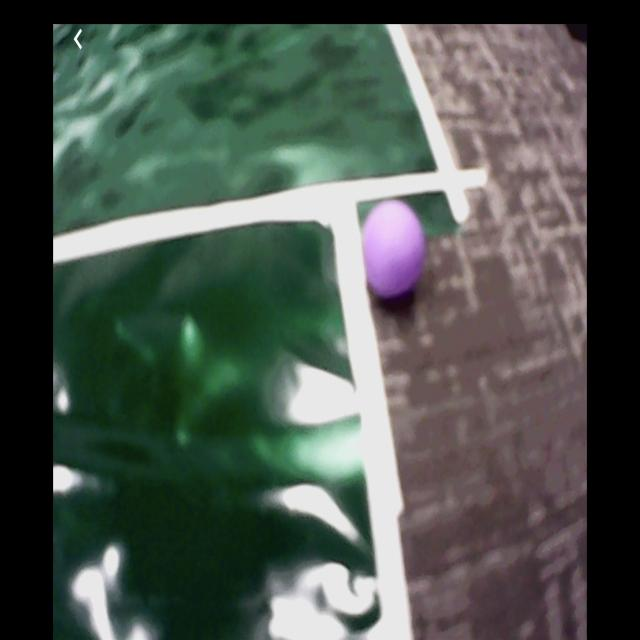ball: (364, 203, 427, 298)
